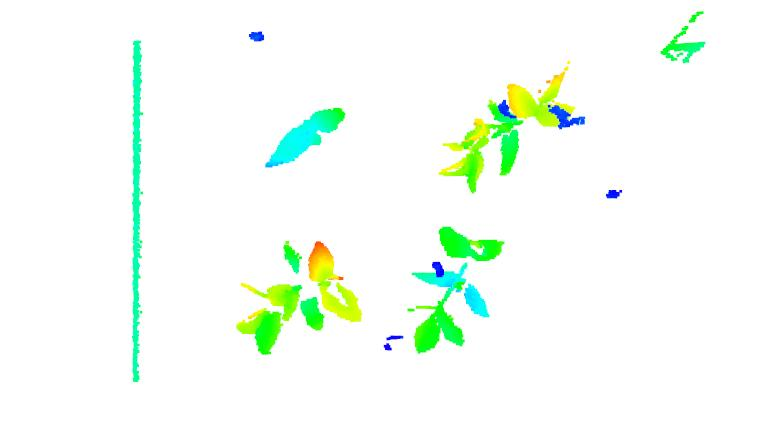mungbean: (436, 61, 583, 192), (233, 238, 364, 356), (403, 223, 512, 354), (259, 101, 351, 170)
